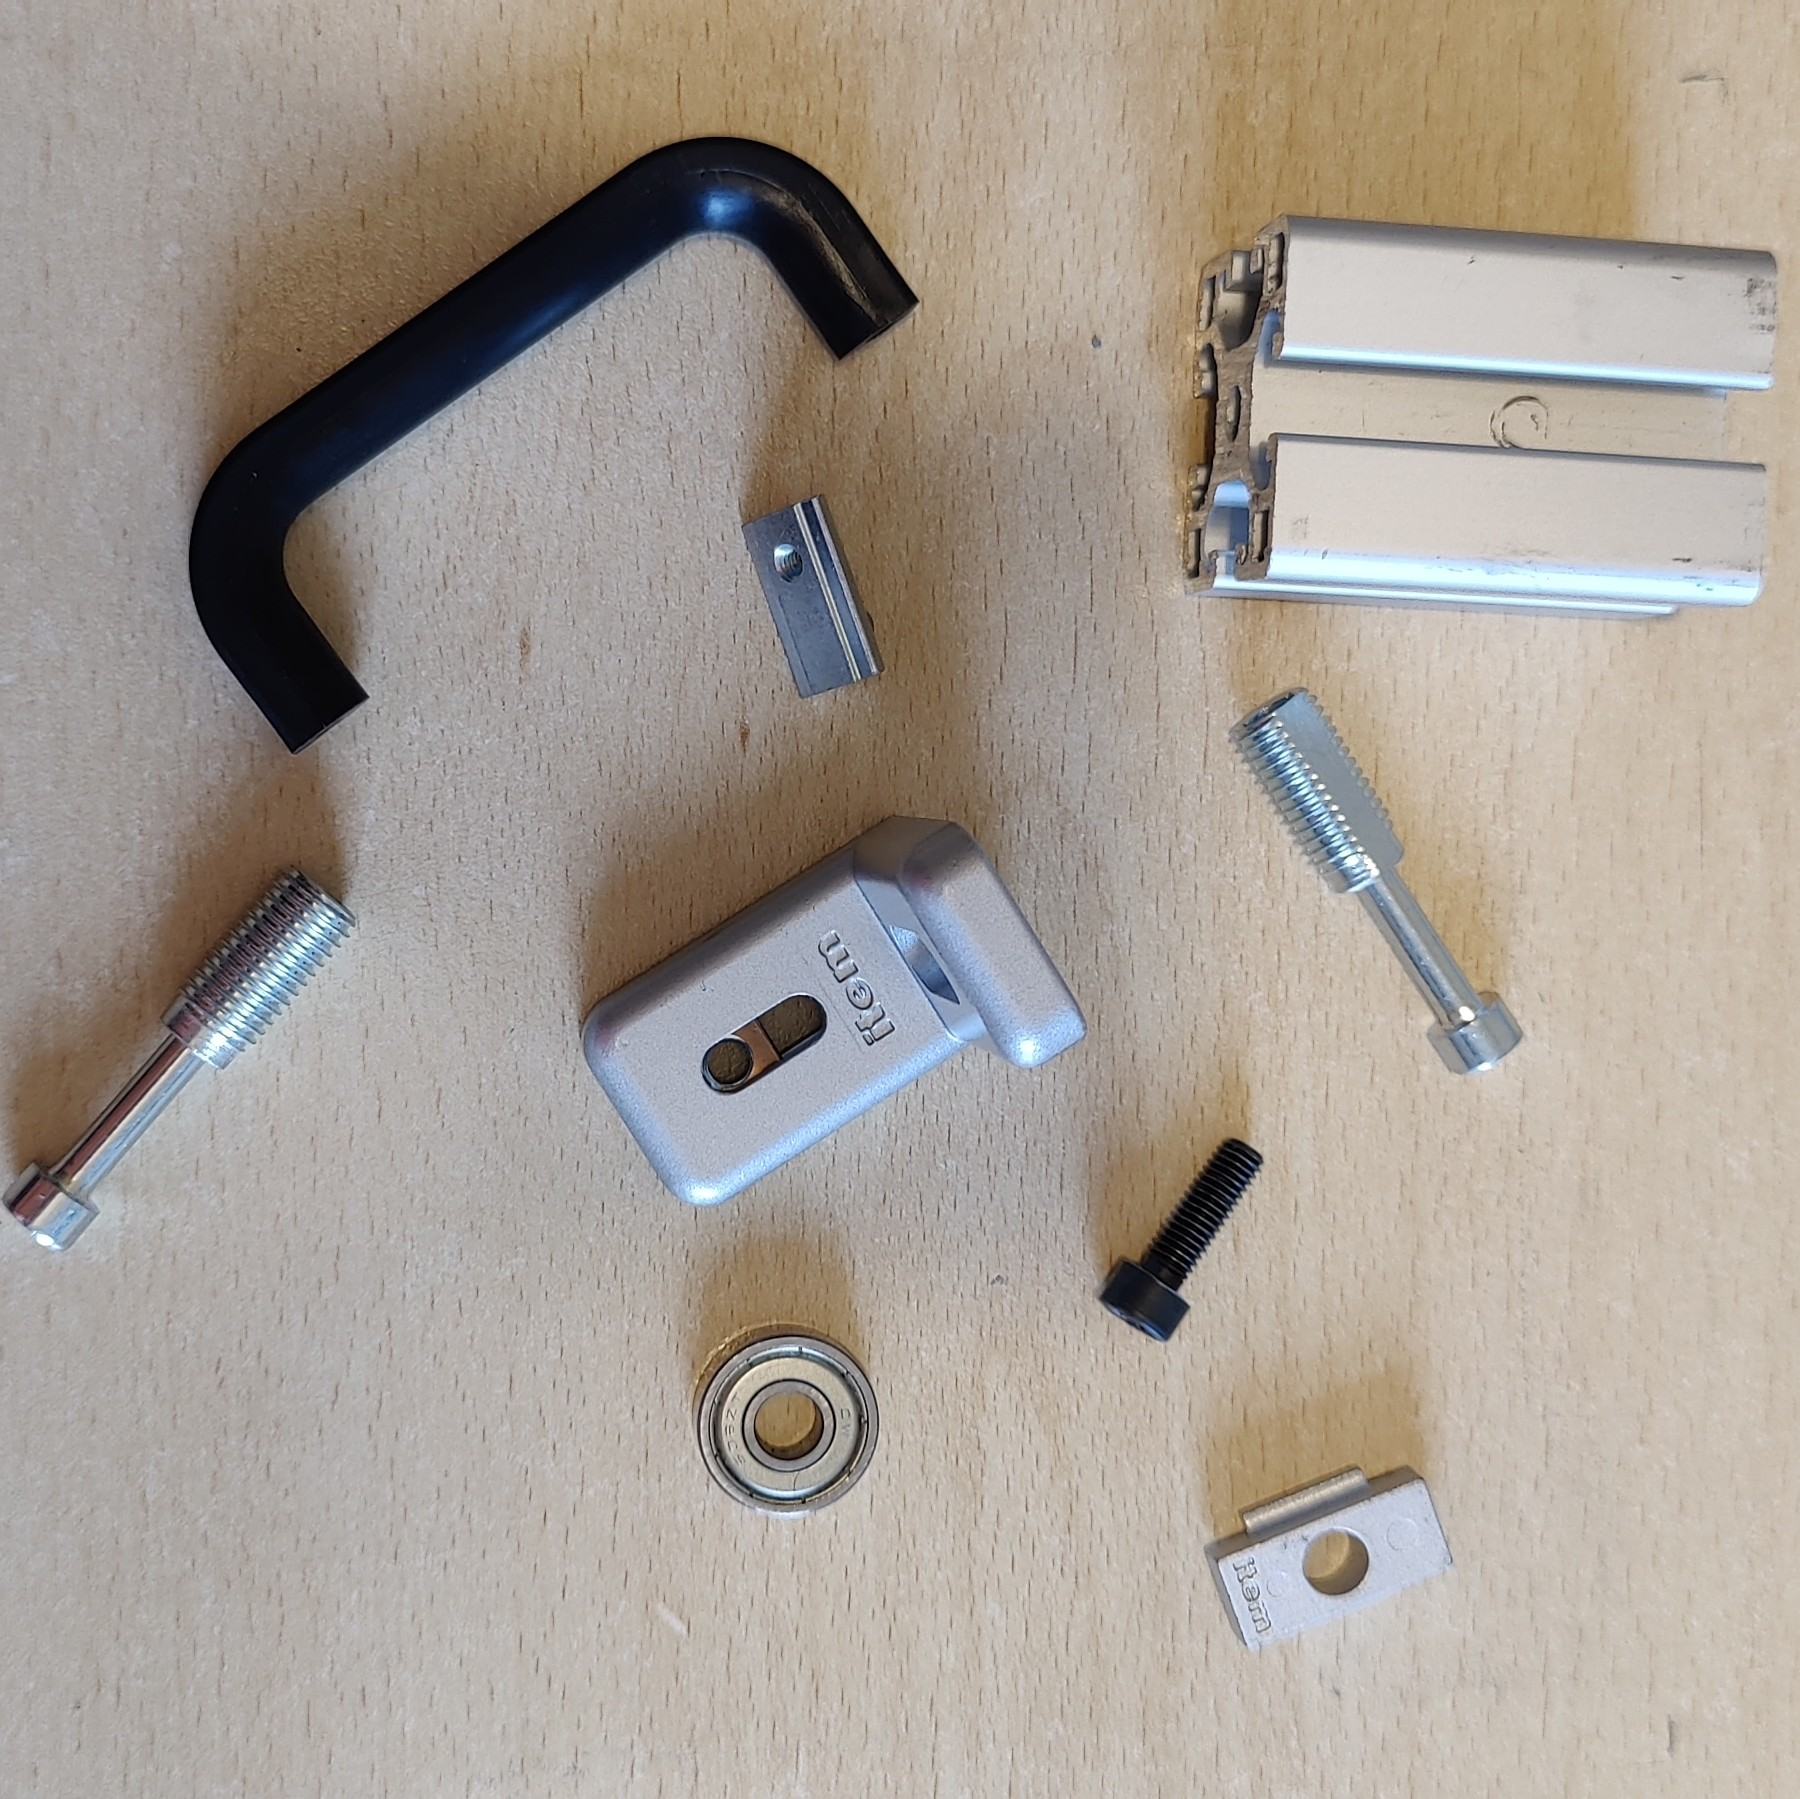Aluminium Extension: (1177, 211, 1779, 626)
Ball Bearing: (690, 1316, 881, 1521)
Multiwinkel: (578, 811, 1089, 1211)
Pull Handle: (186, 132, 924, 758)
Shoulder Socket Head Cap Screw: (2, 860, 359, 1254), (1224, 680, 1528, 1077)
Socket Head Cap Screw: (1097, 1132, 1265, 1346)
T Nut Square: (1201, 1460, 1454, 1654)
T Spring Nut: (739, 493, 888, 702)
